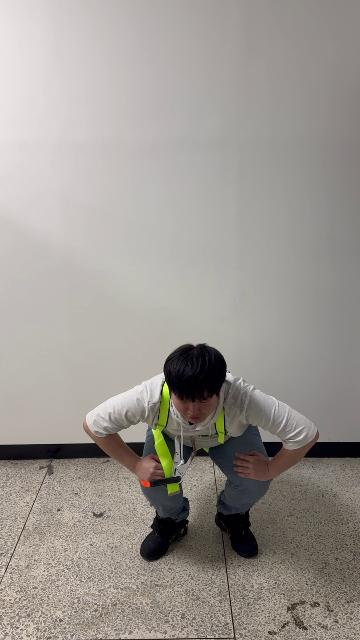helmet_not_worn: (163, 342, 228, 400)
shoe_worn: (140, 512, 189, 560), (215, 509, 258, 558)
vest_worn: (150, 378, 226, 496)
